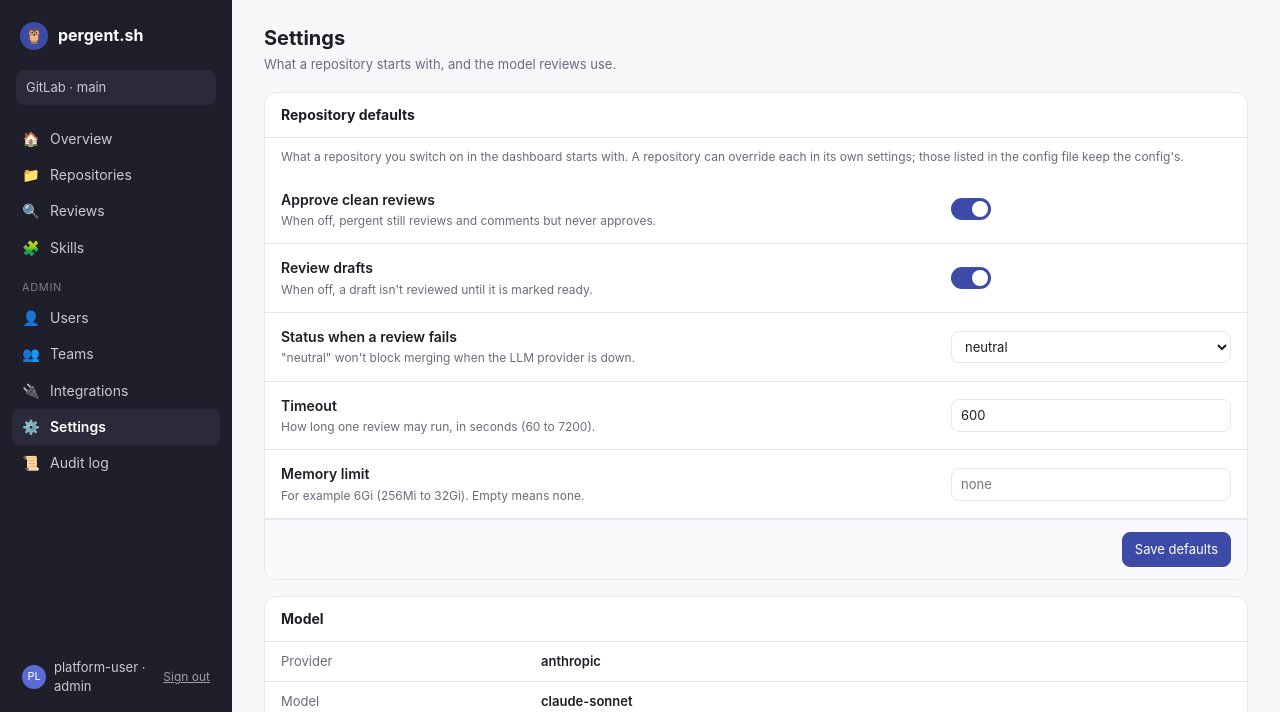
Scenario: AdminSettings defaults › shows the server's text when the defaults are refused
In the field named "Memory limit": x=1091, y=484 [951,468,1231,500], type "1Mi"
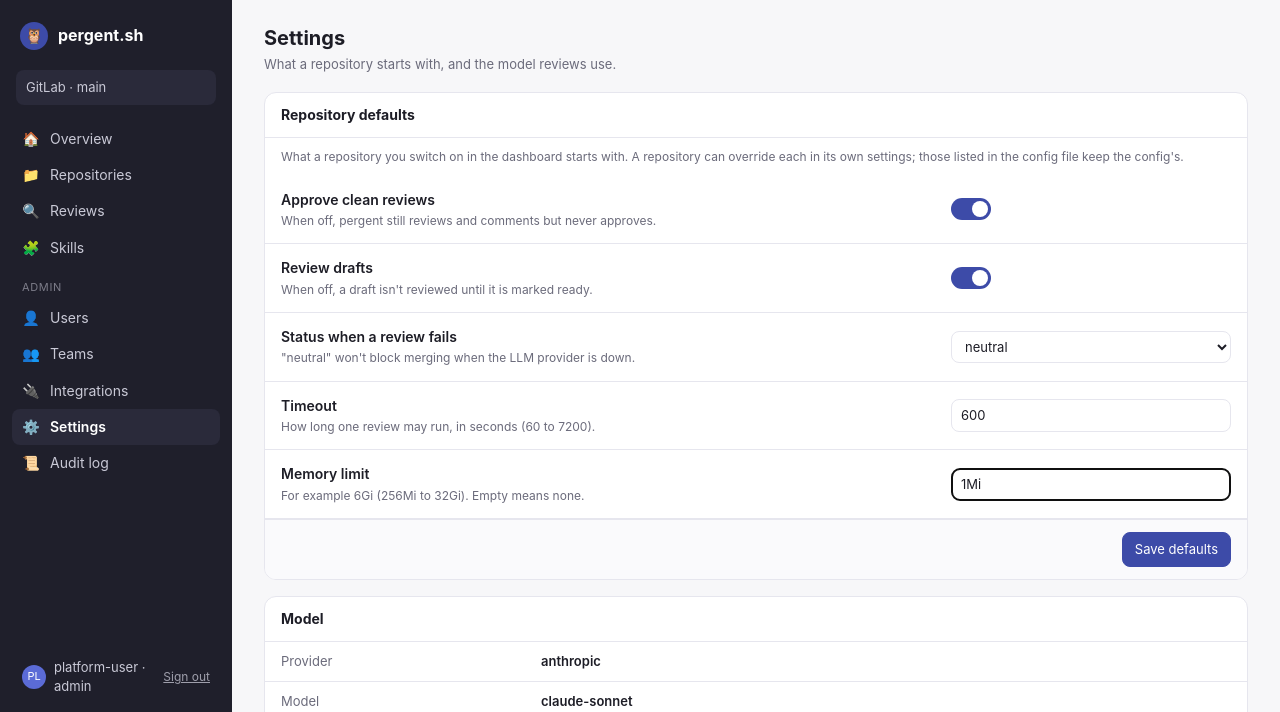
Click the button "Save defaults": x=1176, y=549 [1122,532,1231,567]
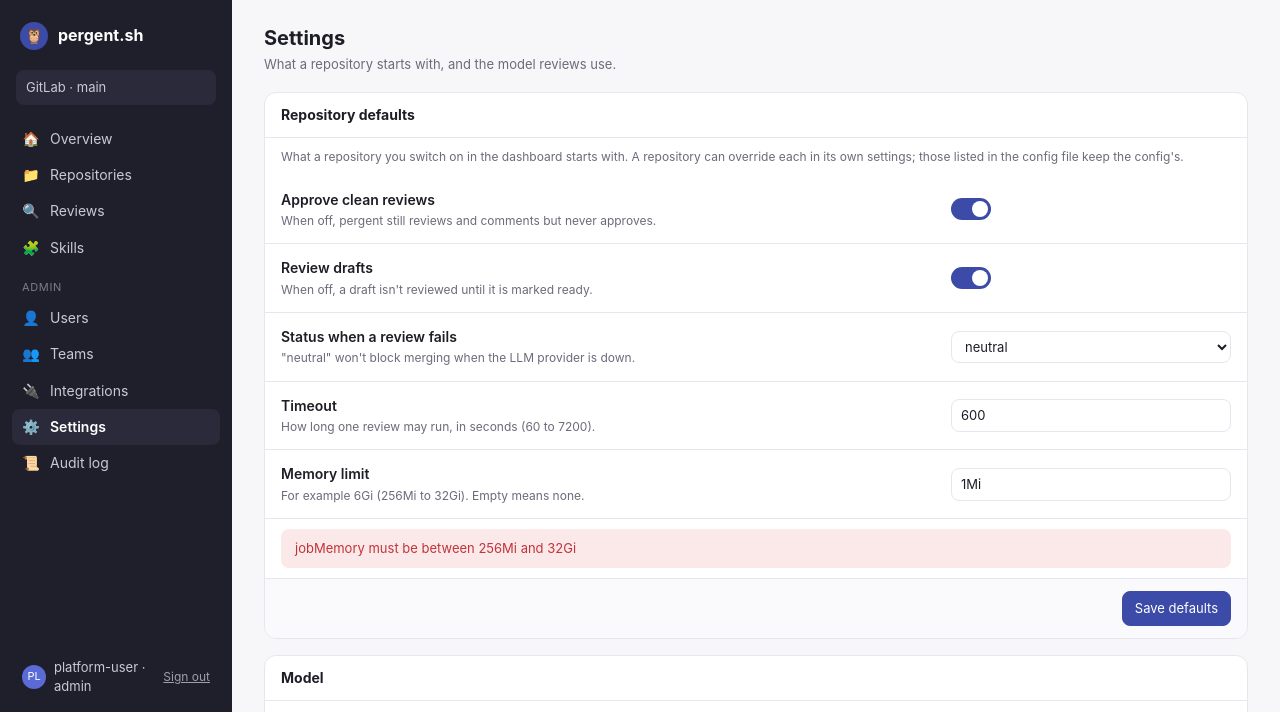
Expected: the message reads "jobMemory must be between 256Mi and 32Gi", [295,540,576,556]
